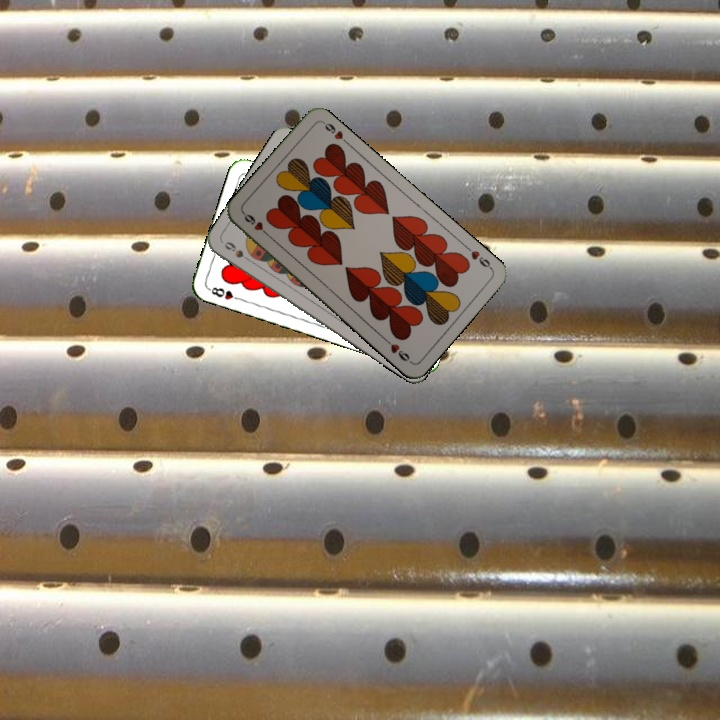H8: (205, 283, 244, 303)
H9: (239, 209, 273, 240), (461, 241, 495, 272)
S9: (220, 237, 256, 266)
